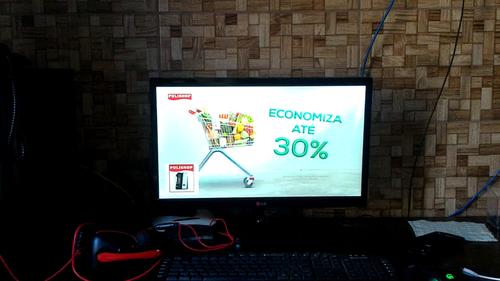Polishop #1: (165, 162, 200, 194)
